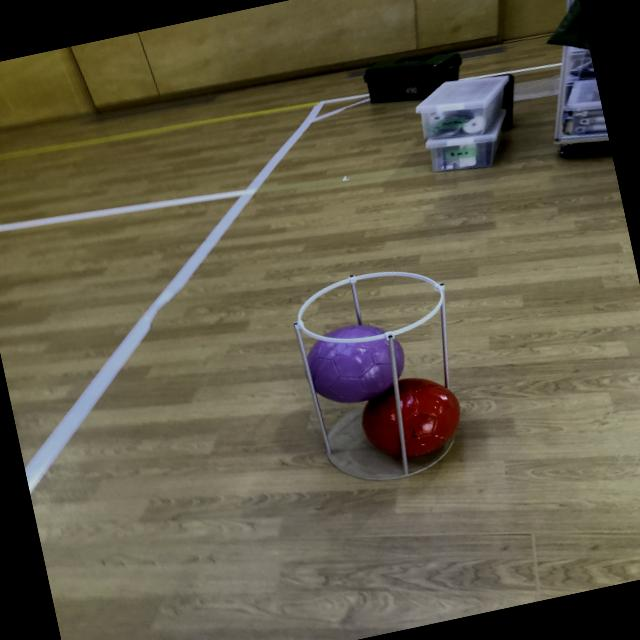purple_ball: (299, 319, 413, 412)
red_ball: (352, 368, 464, 468)
